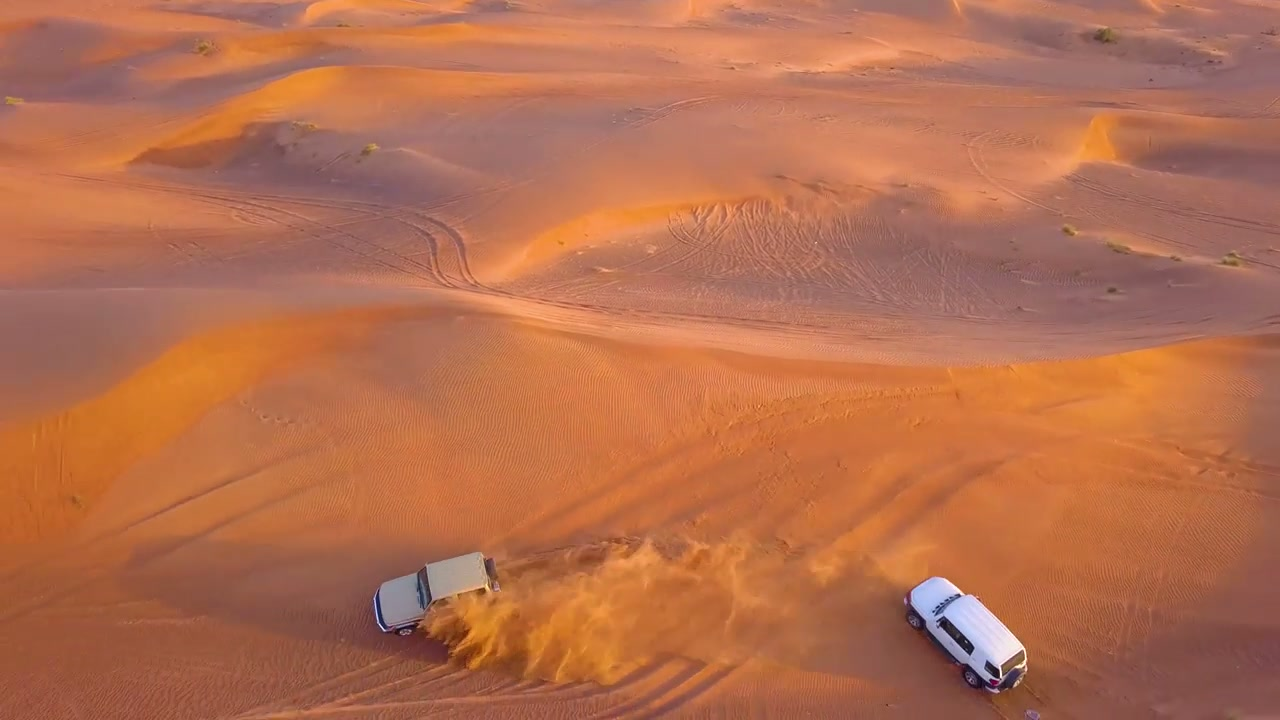vehicle_track: (59, 173, 865, 343), (59, 173, 479, 287), (56, 173, 457, 232), (536, 201, 741, 296), (1065, 172, 1279, 235), (232, 657, 404, 719), (590, 658, 737, 719), (965, 130, 1063, 215), (29, 111, 203, 152), (648, 202, 745, 272), (620, 95, 720, 130)
